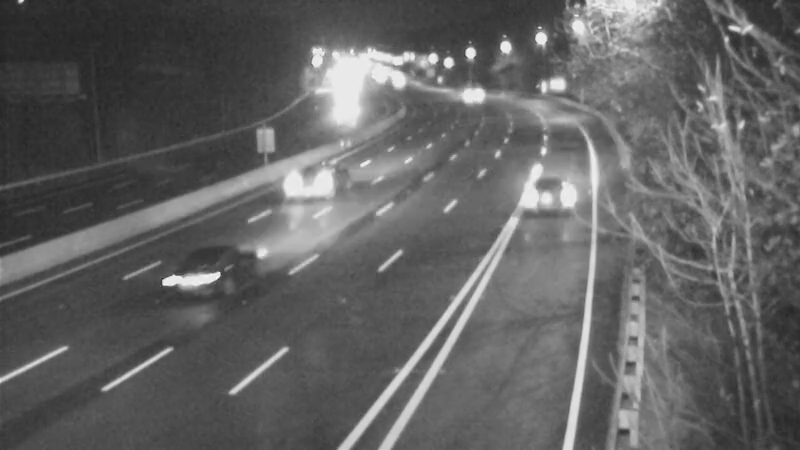vehicle: (516, 148, 596, 228), (275, 135, 355, 215), (167, 236, 247, 316), (441, 70, 491, 120), (316, 87, 366, 137)
